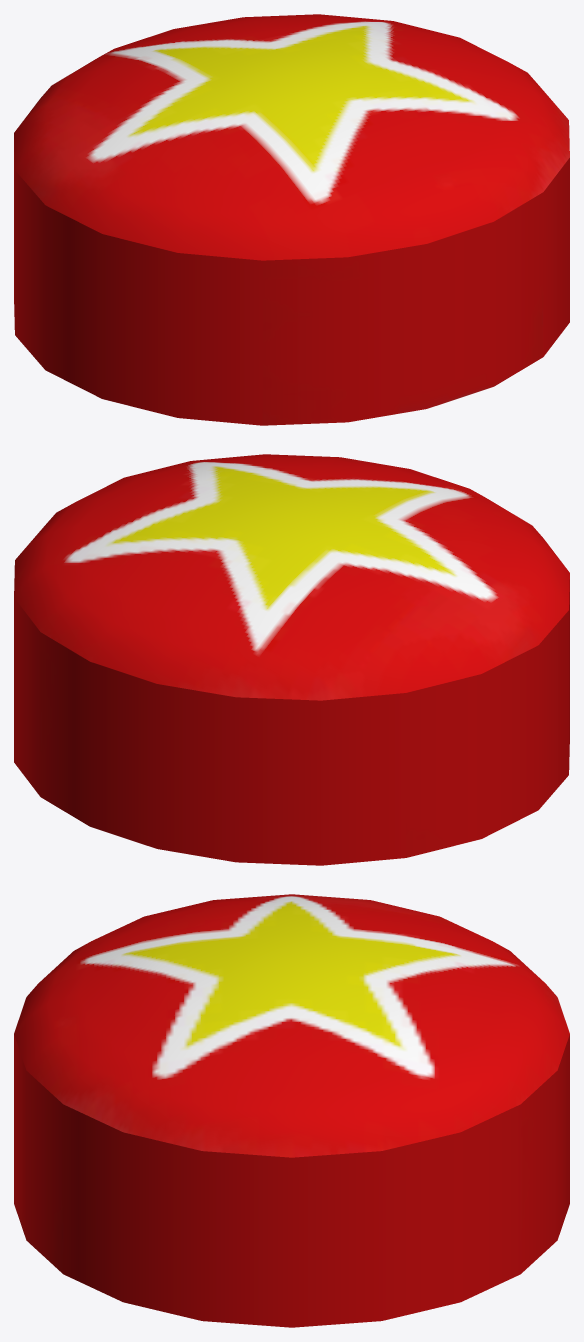
File: bumper_star.glb
3 renders of one model, top to bottom at view 1: azimuth 30°, elevation 25°; view 2: azimuth 150°, elevation 25°; view 3: azimuth 270°, elevation 25°, orthographic. The views are drawn at different scales.
Visible parts, largest first — view 1: pCylinder1_93; view 2: pCylinder1_93; view 3: pCylinder1_93.
Part boxes in pixels (<box>): pCylinder1_93: <box>14,14,569,425</box>; pCylinder1_93: <box>14,454,569,865</box>; pCylinder1_93: <box>14,894,569,1327</box>.
Size of the model in its own units: 5.76 by 3.37 by 5.46.
Materials: 1 (1 with a texture image).
